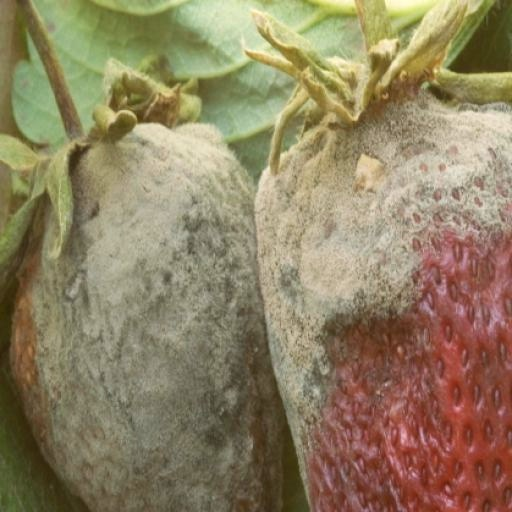Gray Mold: (225, 84, 511, 511), (0, 82, 261, 511)
